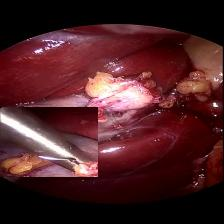Grasper: (0, 106, 98, 176)
